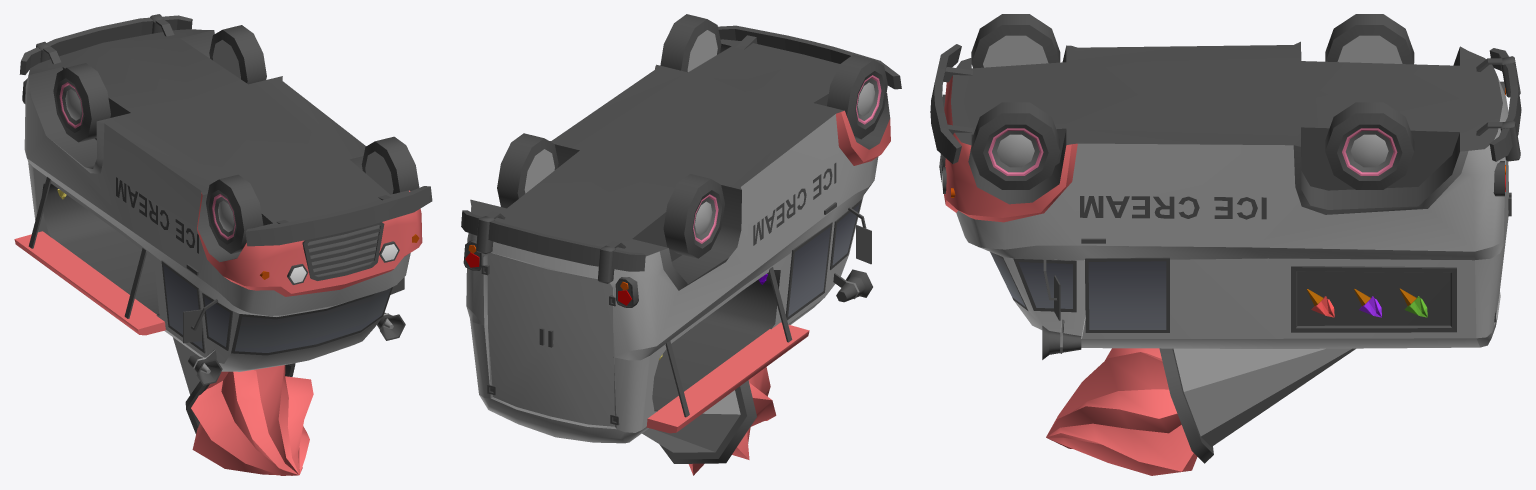
Rendered from Ice Cream Car.FBX.
3 renders of one model, left to right at view 1: azimuth 30°, elevation 25°; view 2: azimuth 150°, elevation 25°; view 3: azimuth 270°, elevation 25°, orthographic. The views are drawn at different scales.
Visible parts, largest first — view 1: Body, Wheel_BL, Wheel_FL, Wheel_FR, Wheel_BR; view 2: Body, Wheel_BL, Wheel_FL, Wheel_BR, Wheel_FR; view 3: Body, Wheel_FR, Wheel_BR, Wheel_FL, Wheel_BL.
Part boxes in pixels (bbox=[...]): Body: bbox=[14, 14, 432, 475]; Wheel_BL: bbox=[53, 63, 110, 142]; Wheel_FL: bbox=[206, 174, 263, 253]; Wheel_FR: bbox=[361, 136, 419, 194]; Wheel_BR: bbox=[209, 25, 266, 84]; Body: bbox=[461, 25, 901, 475]; Wheel_BL: bbox=[663, 174, 724, 258]; Wheel_FL: bbox=[827, 54, 887, 139]; Wheel_BR: bbox=[497, 133, 558, 208]; Wheel_FR: bbox=[660, 14, 721, 72]; Body: bbox=[930, 41, 1521, 475]; Wheel_FR: bbox=[971, 102, 1060, 189]; Wheel_BR: bbox=[1325, 102, 1414, 189]; Wheel_FL: bbox=[971, 14, 1060, 68]; Wheel_BL: bbox=[1325, 14, 1414, 64].
Size of the model in its own units: 352 by 704 by 535.
1 material, 1 textured.
